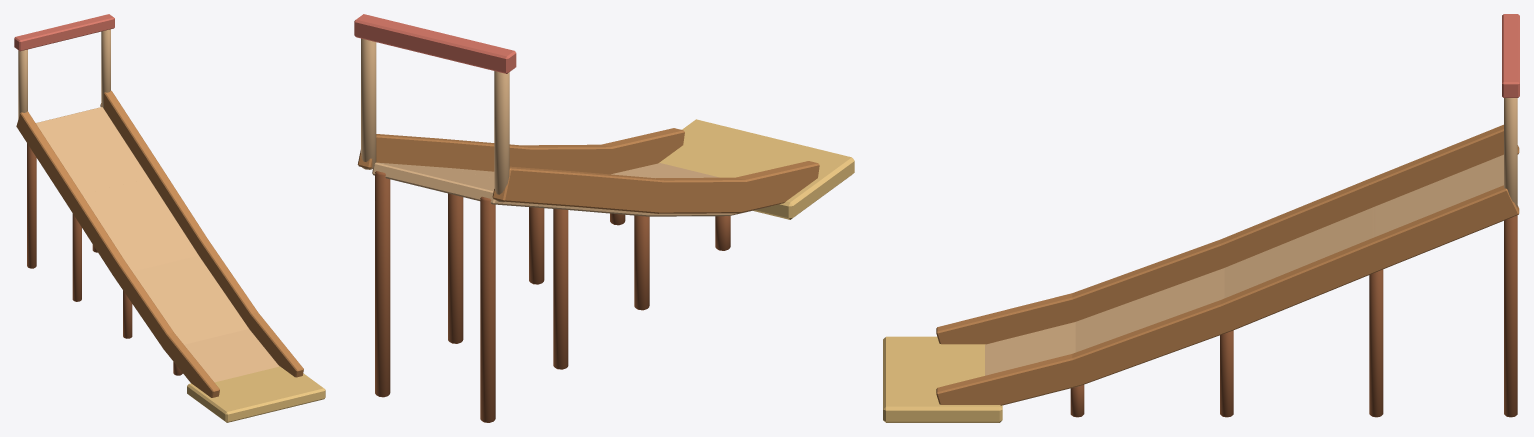
Rendered from F35-timber-slide.glb.
The picture shows the model from 3 angles, left to right: view 1: azimuth 30°, elevation 25°; view 2: azimuth 150°, elevation 25°; view 3: azimuth 270°, elevation 25°; orthographic projection. The views are drawn at different scales.
Parts seen in each view (by area): view 1: honey_wood, warm_cedar, F35_Slide_HayPad, toasted_wood, F35_Slide_ArchBeam; view 2: warm_cedar, toasted_wood, honey_wood, F35_Slide_HayPad, F35_Slide_ArchBeam; view 3: warm_cedar, honey_wood, F35_Slide_HayPad, toasted_wood, F35_Slide_ArchBeam.
Part boxes in pixels (x1,y1,x2,y2): honey_wood: (18,29,279,382); warm_cedar: (16,90,303,397); F35_Slide_HayPad: (187,366,325,422); toasted_wood: (27,143,182,375); F35_Slide_ArchBeam: (14,14,114,51); warm_cedar: (357,128,819,213); toasted_wood: (375,171,730,422); honey_wood: (361,38,770,216); F35_Slide_HayPad: (659,119,854,219); F35_Slide_ArchBeam: (354,14,516,73); warm_cedar: (936,124,1519,405); honey_wood: (985,98,1517,405); F35_Slide_HayPad: (883,336,1002,422); toasted_wood: (1070,215,1517,417); F35_Slide_ArchBeam: (1502,14,1519,97).
Size of the model in its own units: 2.3 by 5.1 by 8.52.
